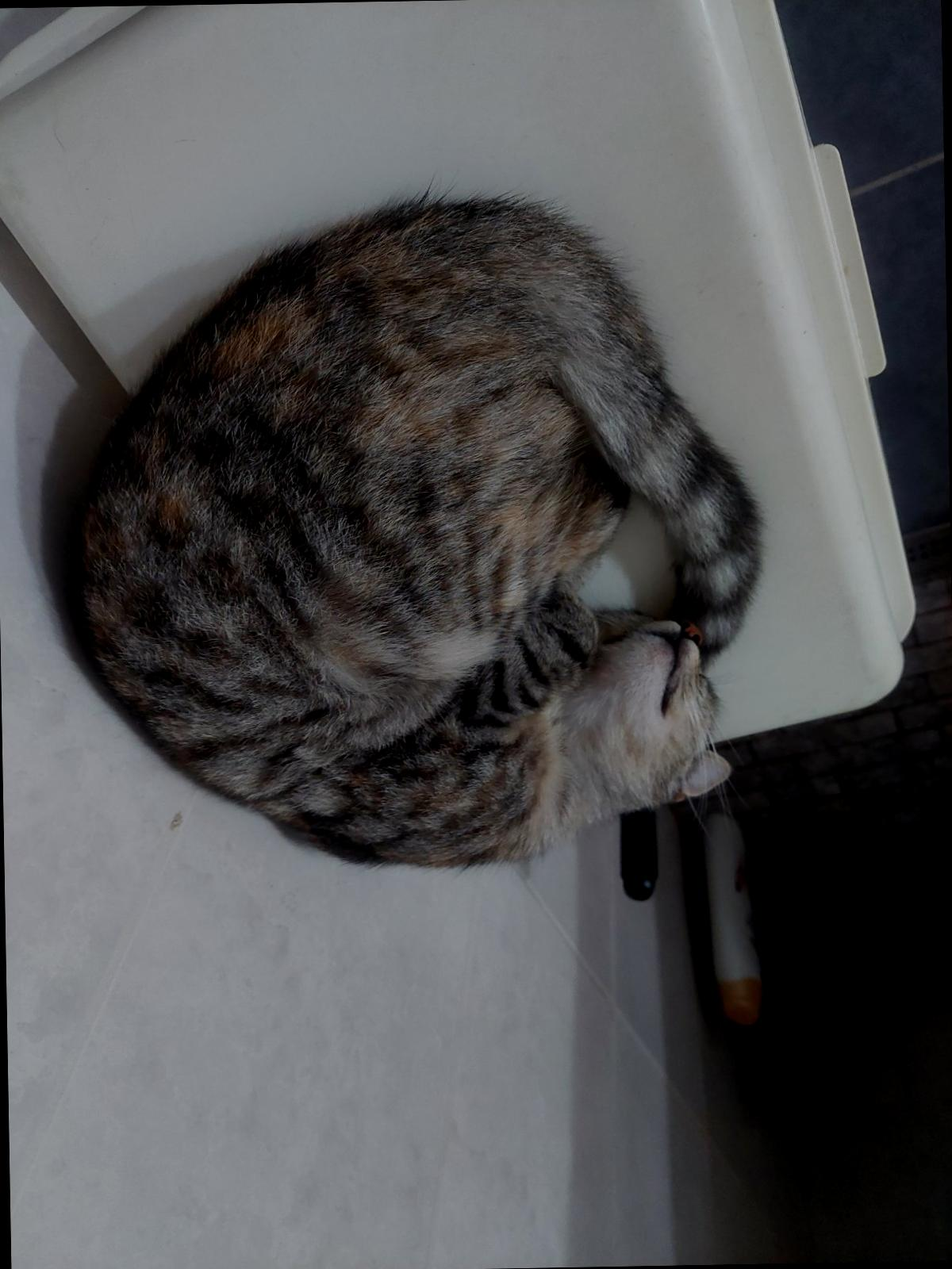macka: (63, 190, 770, 876)
